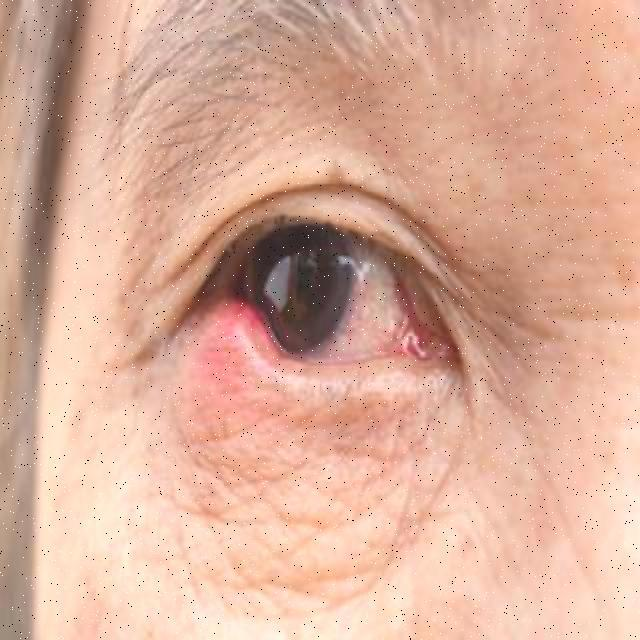Stye: (132, 300, 306, 458)
